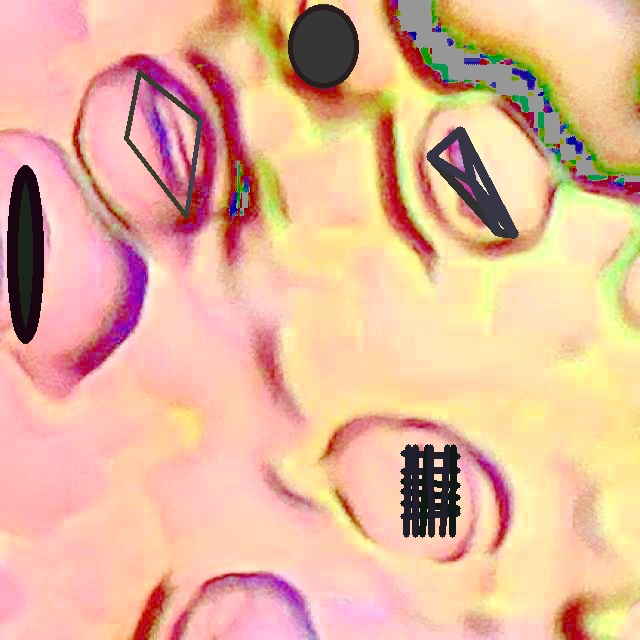close: (400, 444, 460, 537)
open: (125, 71, 202, 218), (427, 127, 518, 236), (6, 165, 44, 342), (288, 4, 358, 89)
